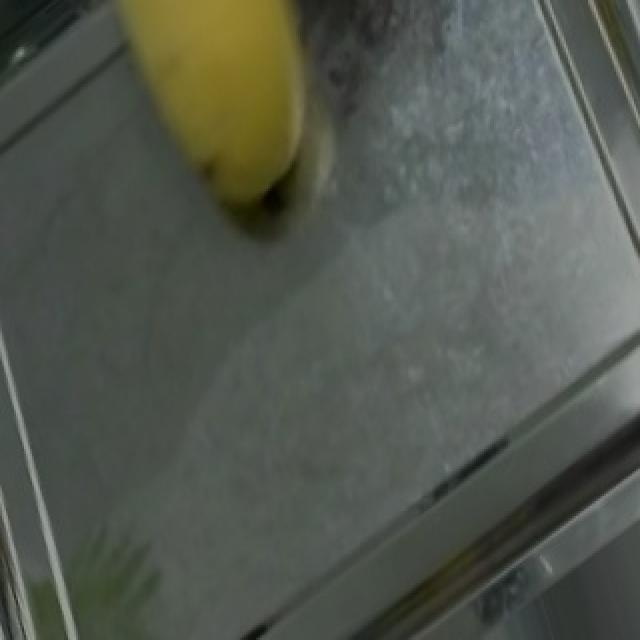fruit: (64, 0, 378, 246)
